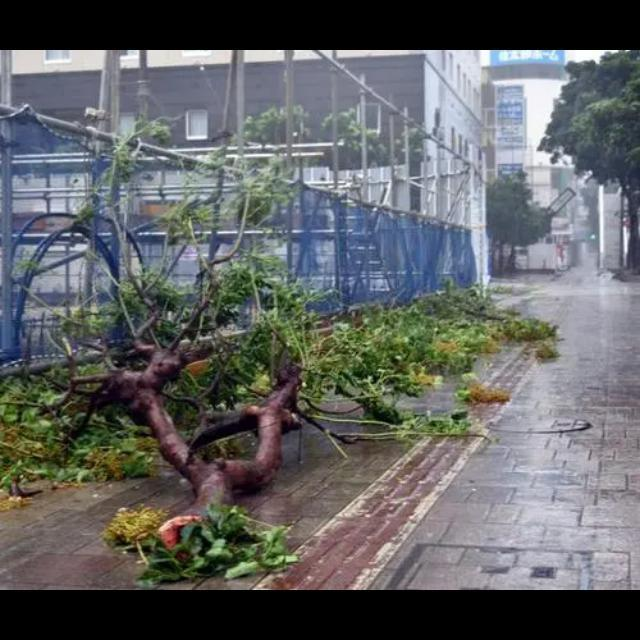fallen_tree: (17, 218, 381, 552)
